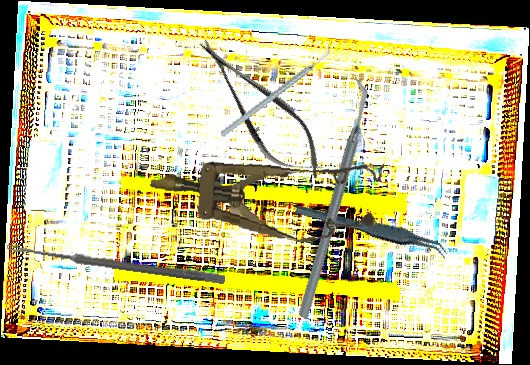Chopper: (217, 76, 447, 321), (206, 43, 346, 138)
Micro Scissor: (183, 22, 338, 195)
Speculum: (146, 140, 384, 250)
Surgical Spoon: (6, 242, 226, 285)
Tissue Forceps: (294, 187, 450, 273)
